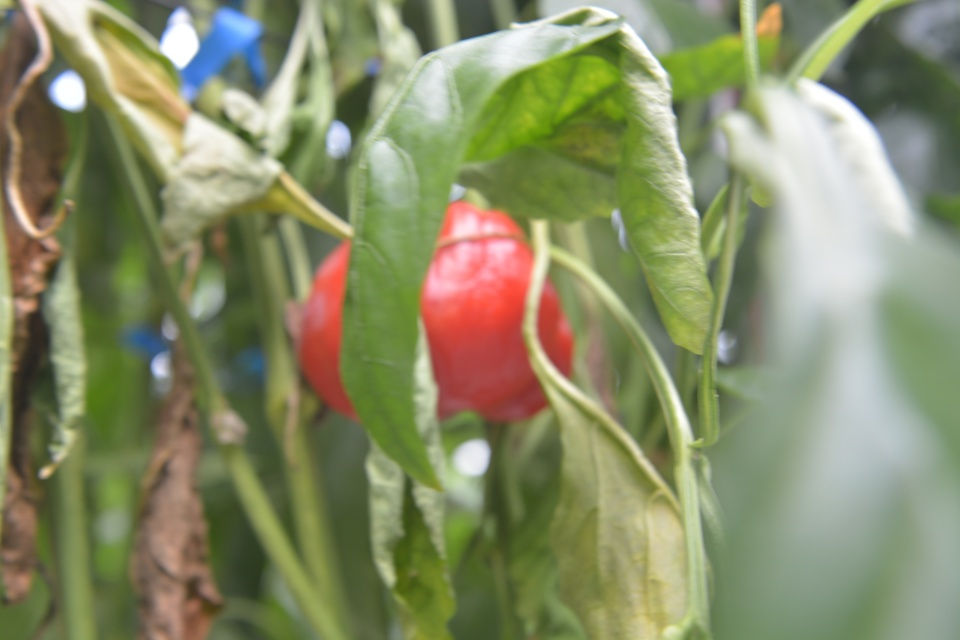fruit: (295, 196, 576, 426)
